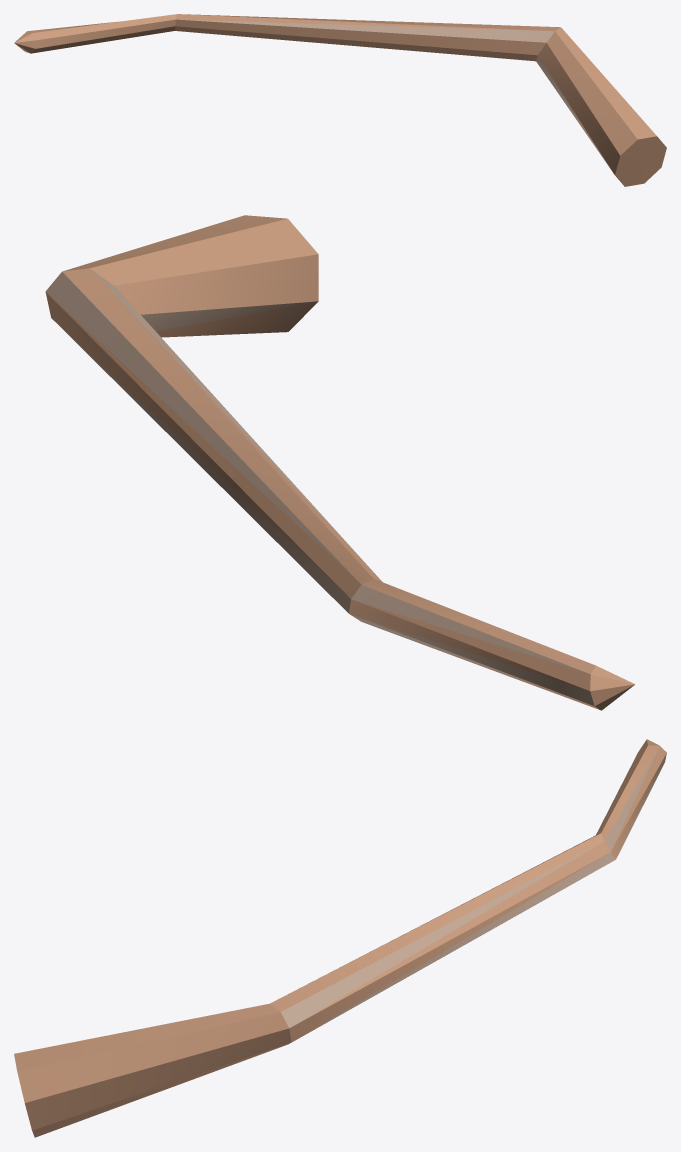
File: branchBigA.fbx
3 renders of one model, top to bottom at view 1: azimuth 30°, elevation 25°; view 2: azimuth 150°, elevation 25°; view 3: azimuth 270°, elevation 25°, orthographic. The views are drawn at different scales.
Visible parts, largest first — view 1: polySurface81; view 2: polySurface81; view 3: polySurface81.
Boxes of the visible parts, left/top/right/bottom form: polySurface81: left=14, top=14, right=666, bottom=186; polySurface81: left=45, top=215, right=634, bottom=710; polySurface81: left=14, top=739, right=666, bottom=1137.
Size of the model in its own units: 158 by 32.39 by 147.
Materials: 2 (2 with a texture image).
